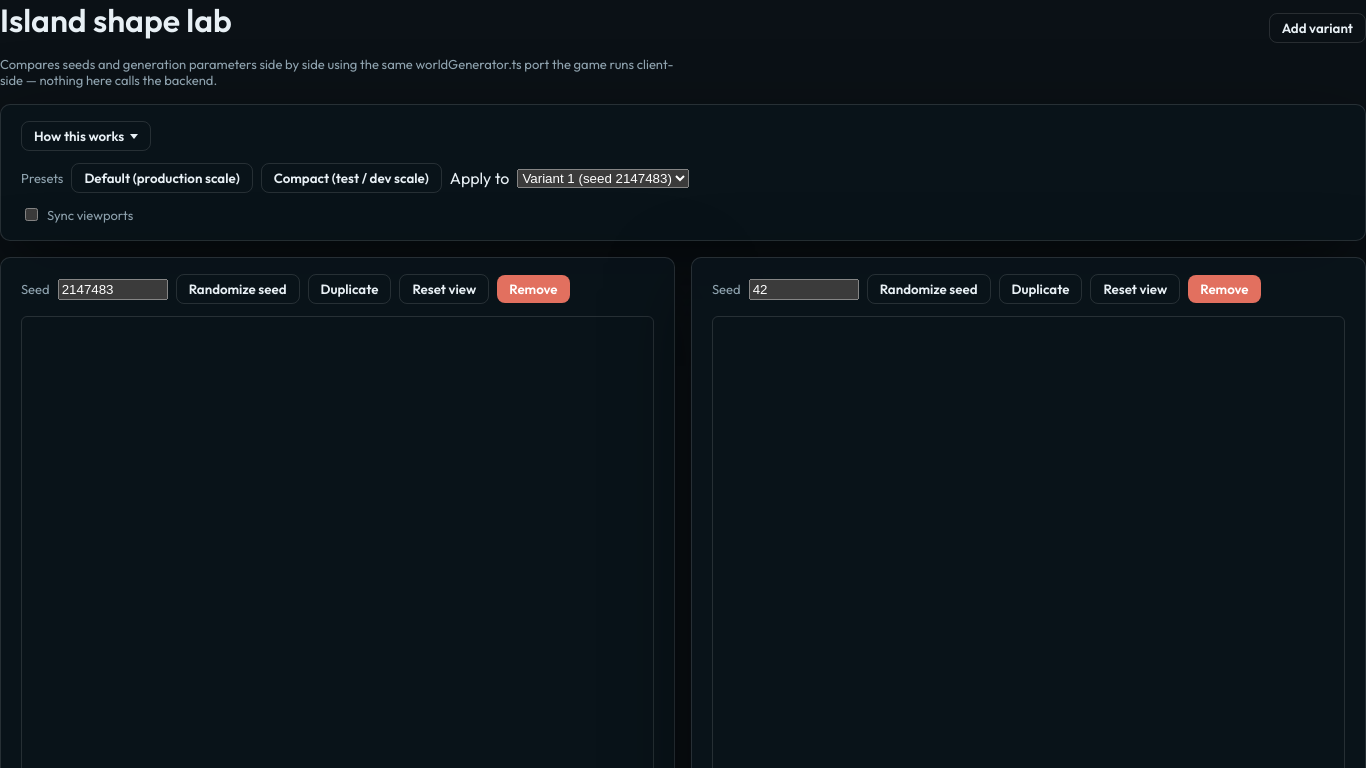
AdminIslandLabView › applying a preset writes it into the selected target variant
Target the second variant, then apply the compact preset to it.
Select "Variant 2 (seed 42)" in the dropdown with test id "preset-target": (603, 178) [517, 168, 689, 188]
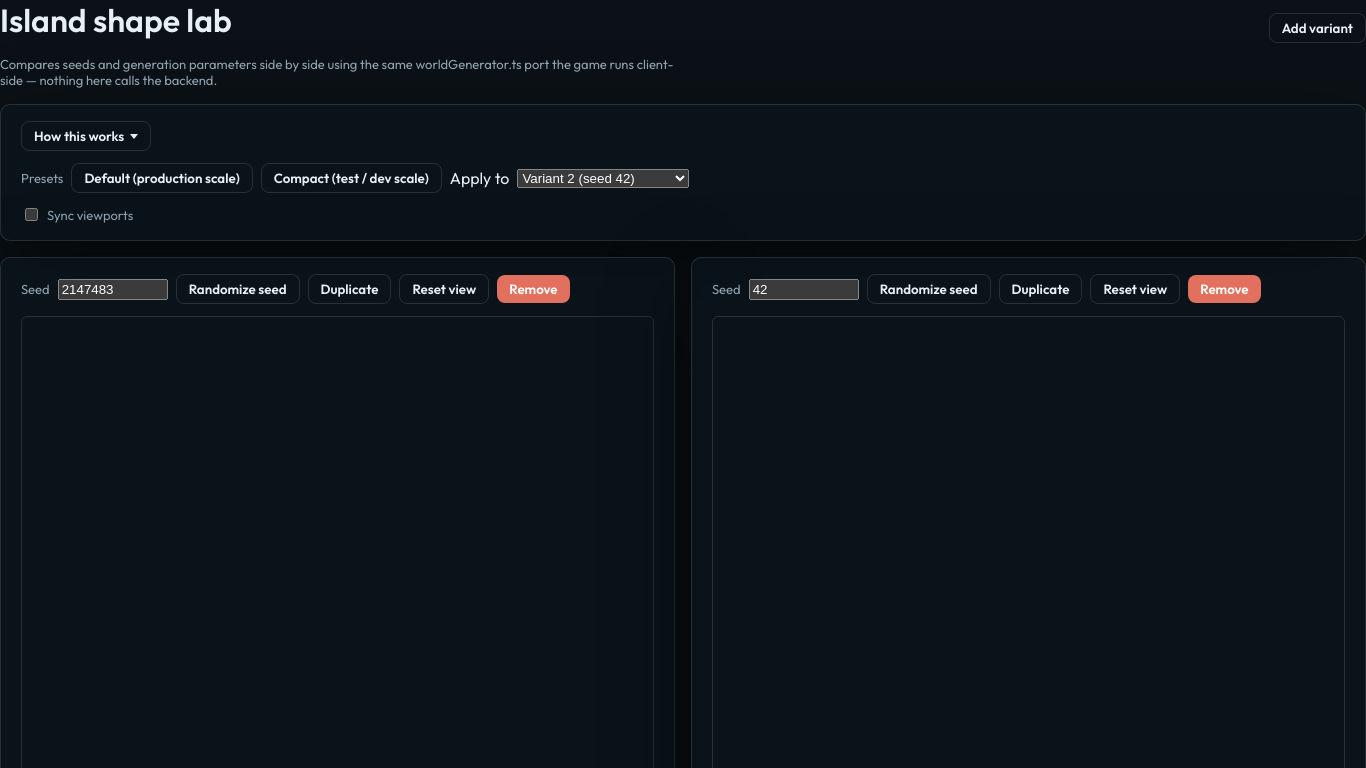
Click the button with test id "preset-compact": (351, 178) [261, 163, 442, 193]
(page scrolled)
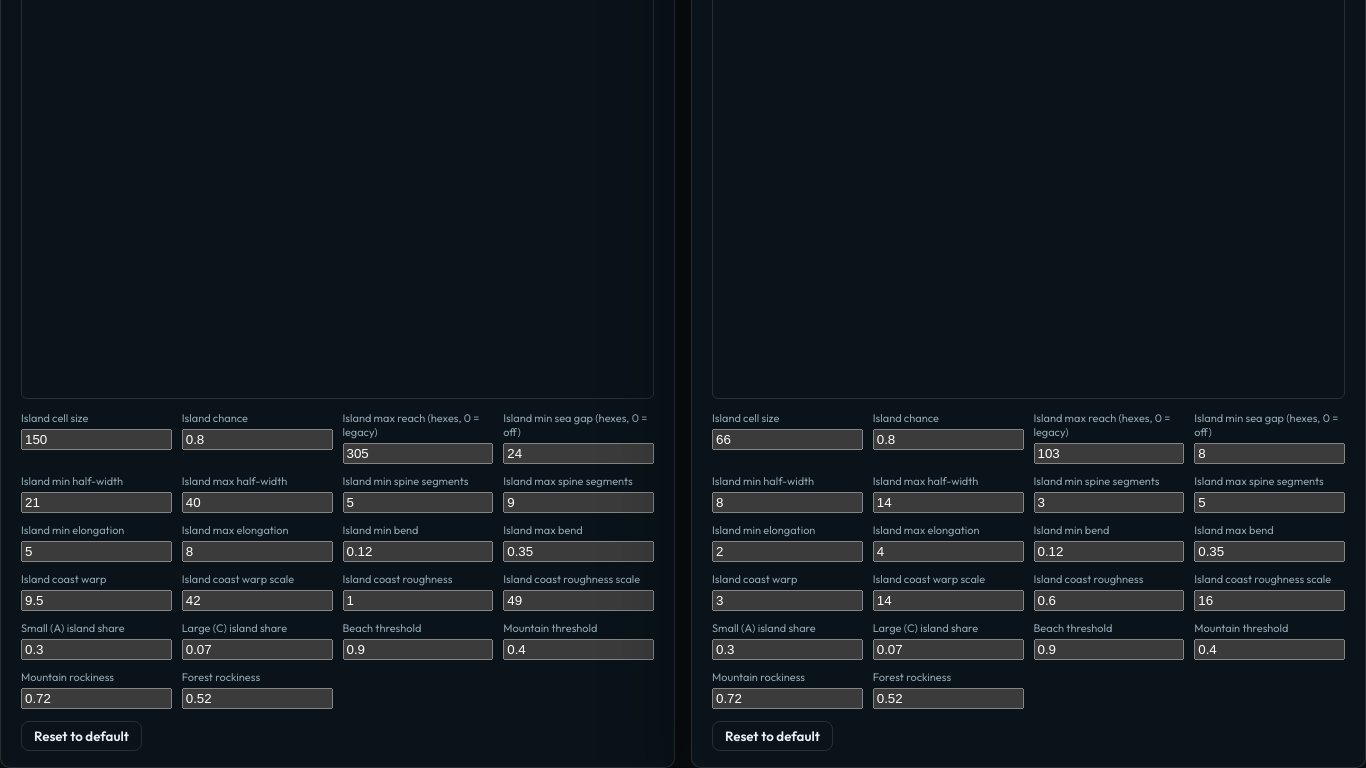
Expected: the number field with test id "lab-gen-" holds "150", [21, 429, 172, 450]
Result: the number field with test id "lab-gen-" holds "66" at [712, 429, 863, 450]
